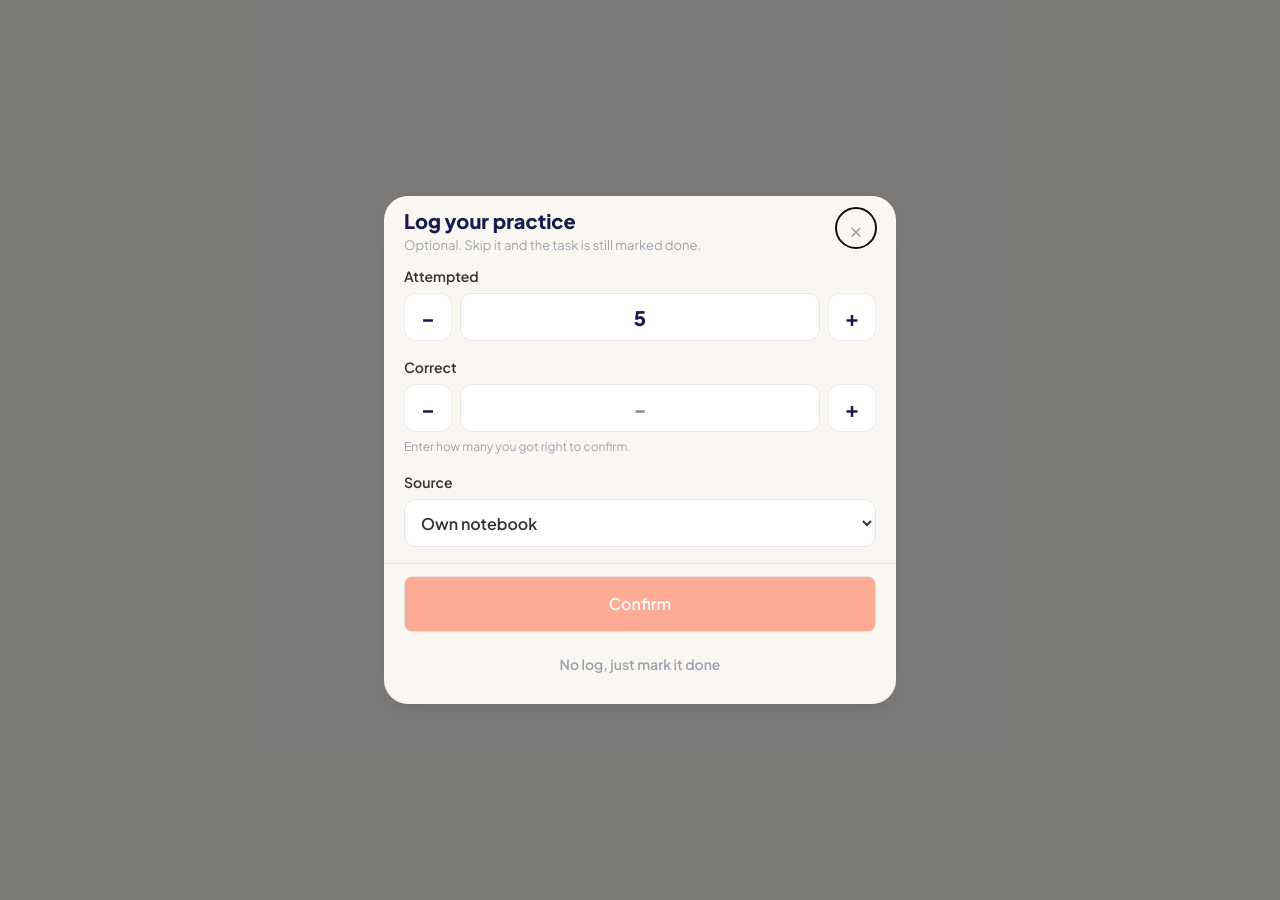
Test: QuickLogSheet — G6 manual completion › lowering attempted keeps correct from going above it
Type "5" into the field with test id "log-correct".
click(640, 408); type("5")  # box [460, 384, 820, 432]
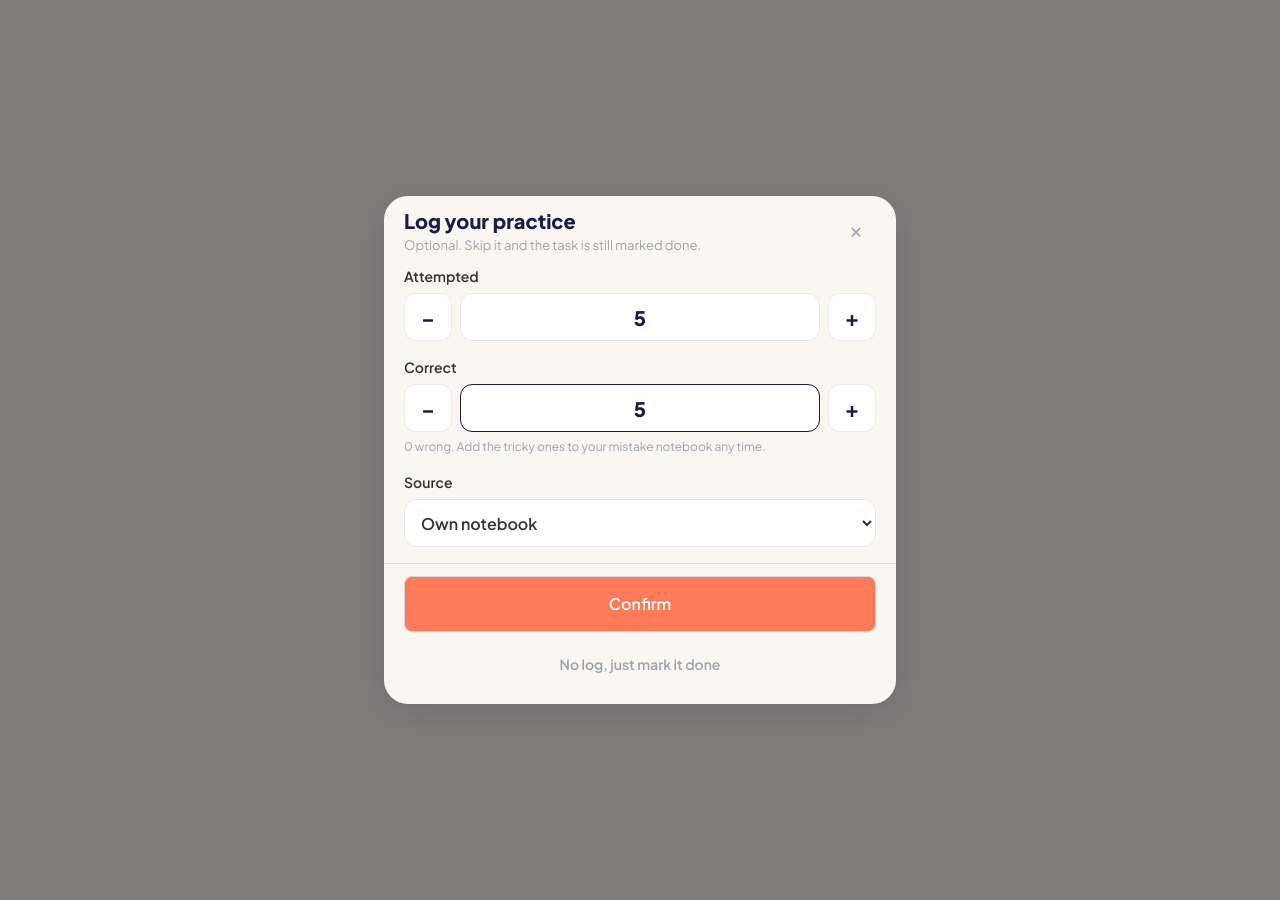
Click the button with test id "log-attempted-dec".
click(428, 317)  # box [404, 293, 452, 341]
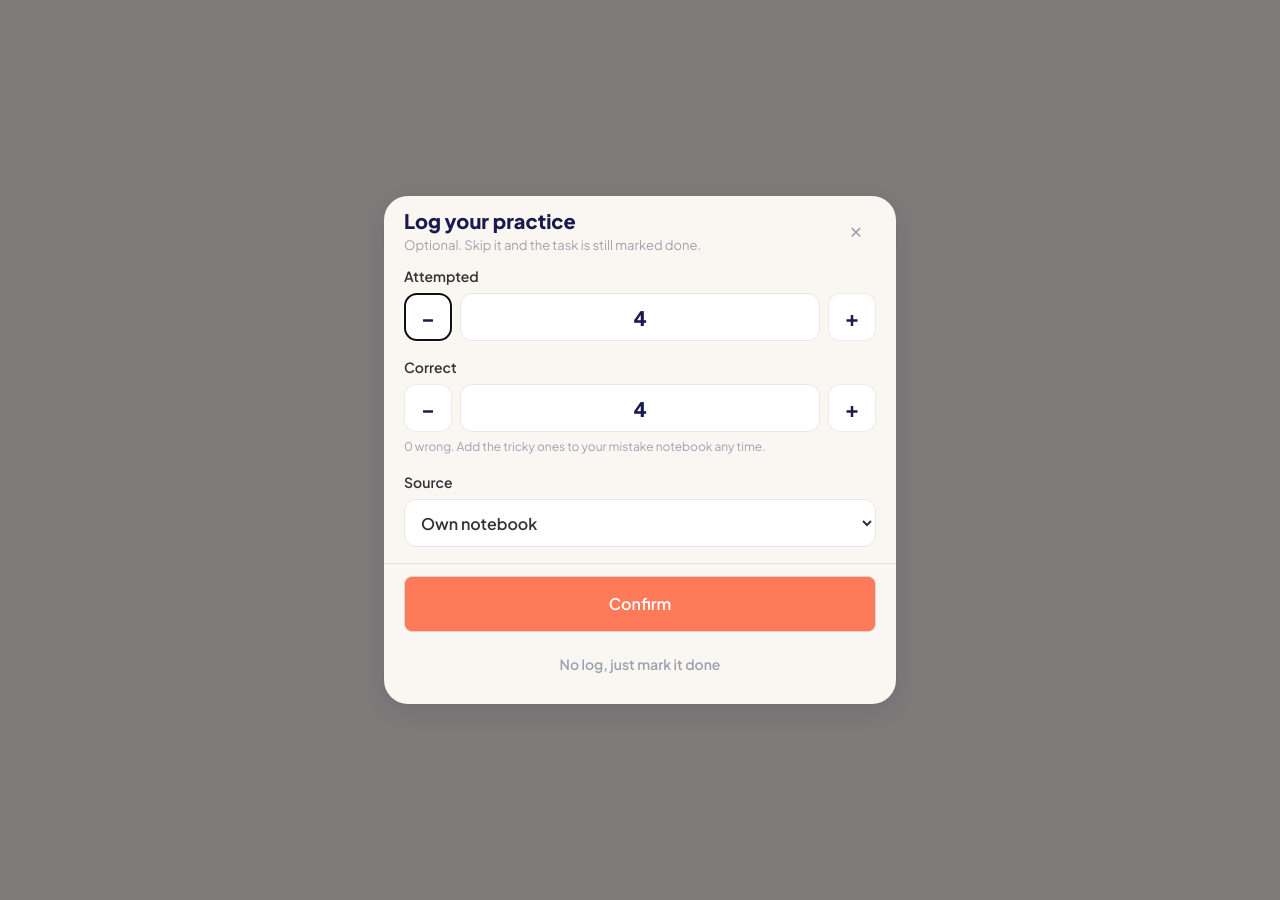
Now the field with test id "log-attempted" holds "4", box [460, 293, 820, 341]
Now the field with test id "log-correct" holds "4", box [460, 384, 820, 432]
